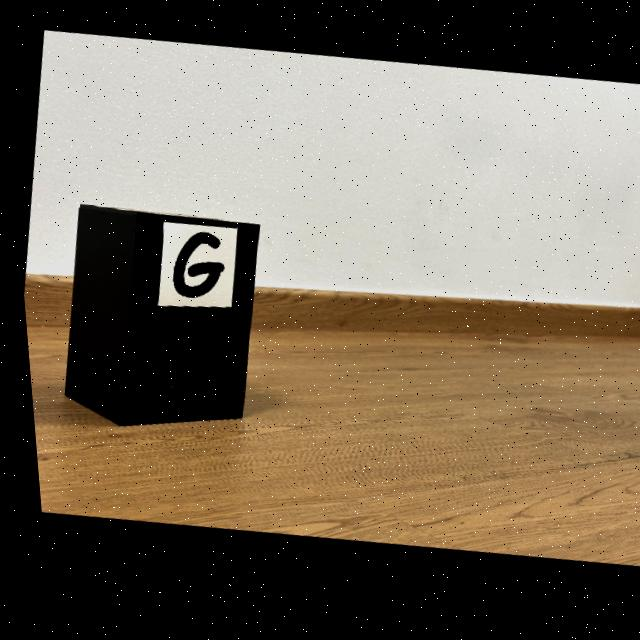G: (169, 235, 218, 300)
